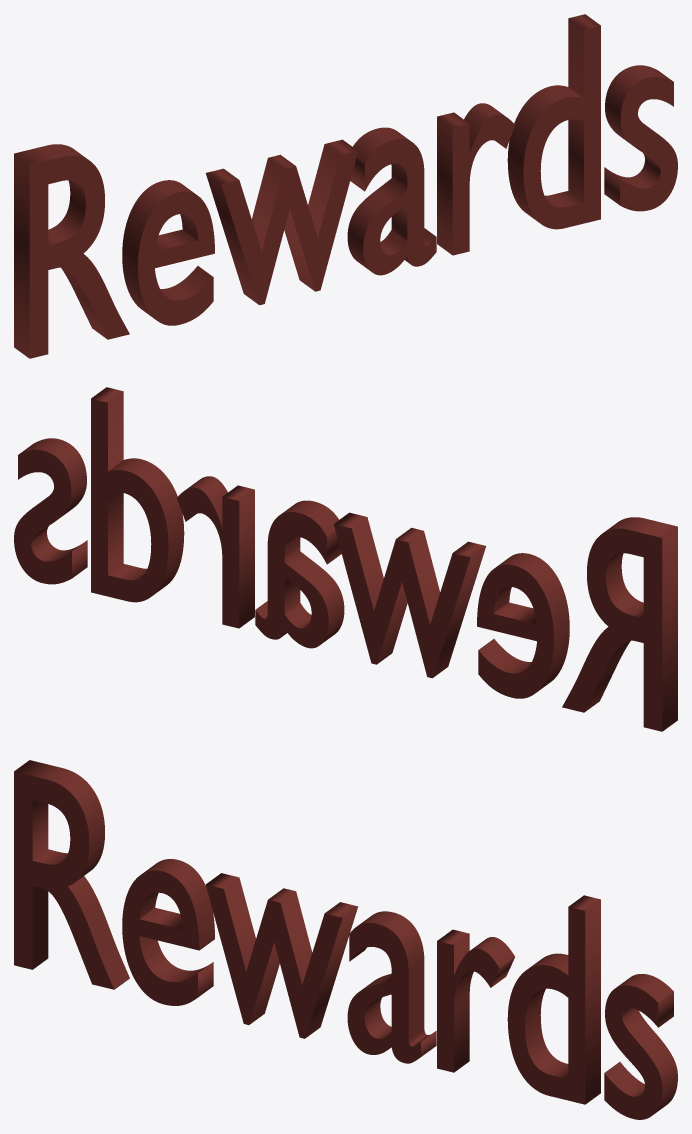
Rendered from rewards.glb.
3 views of the same model, one above another, from view 1: azimuth 30°, elevation 25°; view 2: azimuth 150°, elevation 25°; view 3: azimuth 330°, elevation 25° (orthographic).
Parts seen in each view (by area): view 1: Events.002; view 2: Events.002; view 3: Events.002.
Part boxes in pixels (left/top/right/bottom): Events.002: left=14, top=14, right=677, bottom=358; Events.002: left=14, top=387, right=677, bottom=731; Events.002: left=14, top=760, right=677, bottom=1119.
Size of the model in its own units: 88.11 by 25.51 by 3.69.
